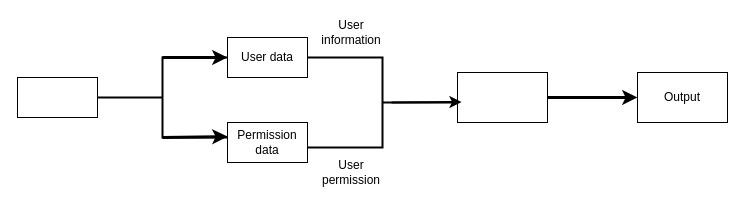
Some shapes in this 745 by 204 pixel diagram are drawn without their labels. Each missing label, with the box of its shape:
idUser: (16, 76, 98, 118)
Target filter: (456, 72, 548, 122)
